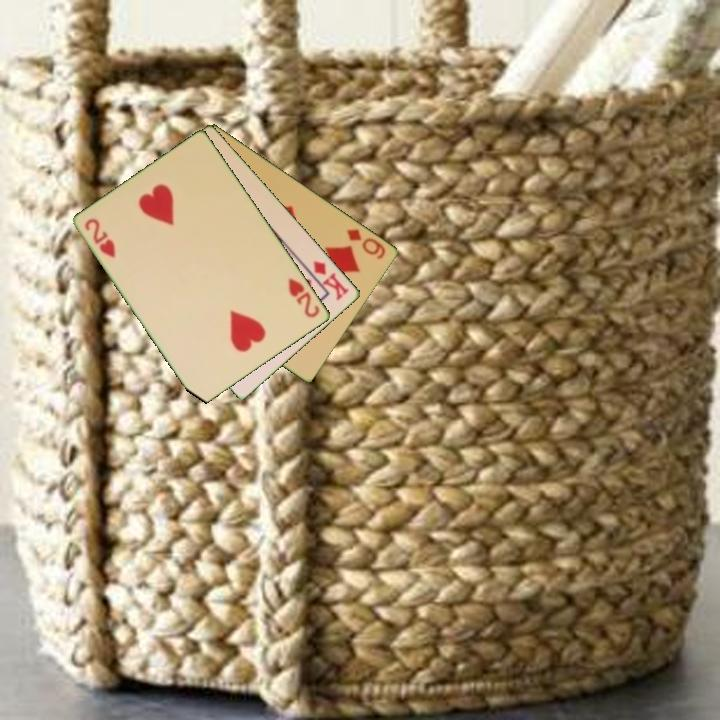2h: (285, 275, 323, 321), (81, 215, 119, 261)
6d: (344, 225, 389, 262)
Kd: (302, 257, 352, 303)
